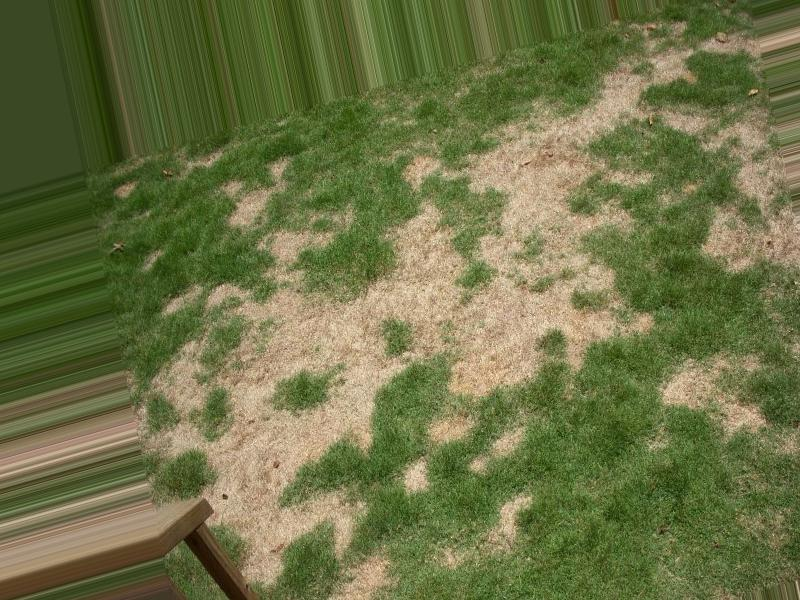patch: (509, 169, 618, 369), (228, 305, 355, 453), (383, 230, 488, 342), (508, 123, 556, 166)
